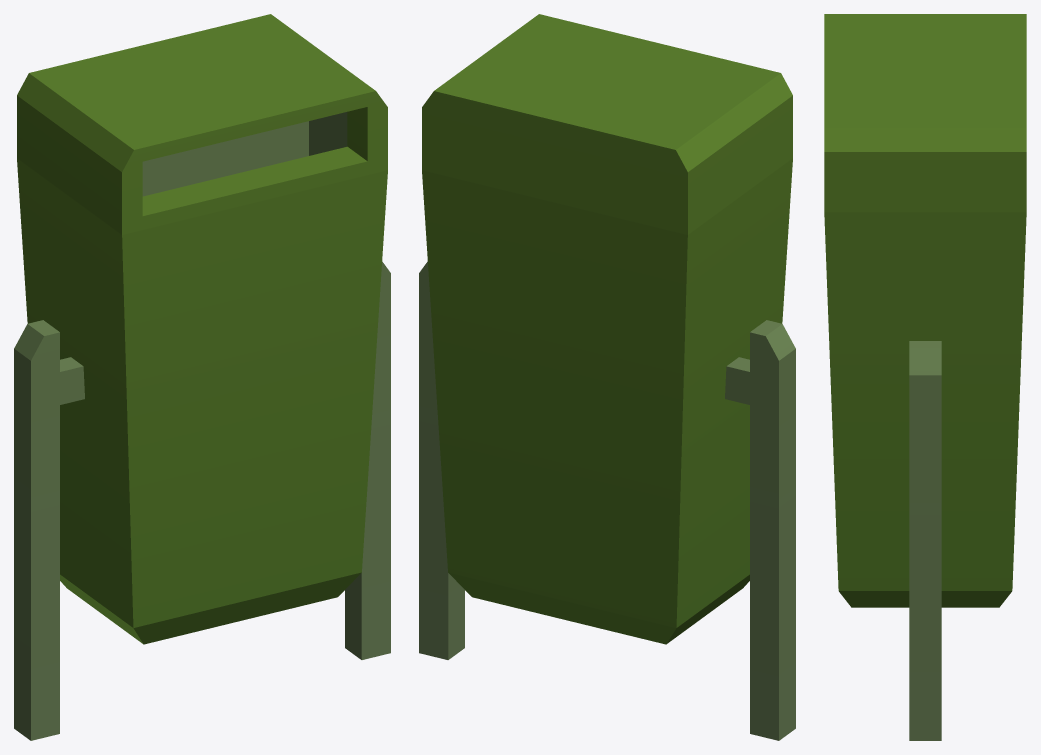
The model's file is Trash_04.fbx.
The picture shows the model from 3 angles, left to right: view 1: azimuth 30°, elevation 25°; view 2: azimuth 150°, elevation 25°; view 3: azimuth 270°, elevation 25°; orthographic projection. The views are drawn at different scales.
Visible parts, largest first — view 1: Trash_04; view 2: Trash_04; view 3: Trash_04.
Part boxes in pixels (bbox=[...]): Trash_04: bbox=[14, 14, 390, 740]; Trash_04: bbox=[419, 14, 795, 740]; Trash_04: bbox=[824, 14, 1026, 740].
Size of the model in its own units: 0.4857 by 0.785 by 0.2458.
